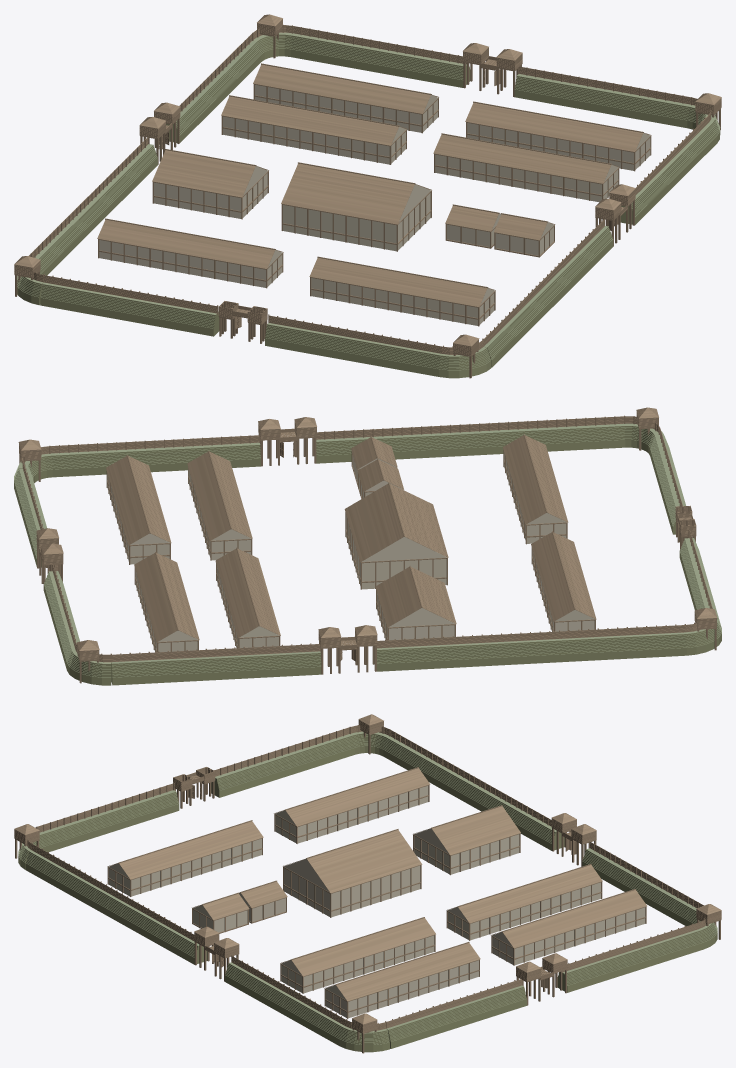
Rendered from roman-fort-b.near.glb.
The picture shows the model from 3 angles, top to bottom: view 1: azimuth 30°, elevation 25°; view 2: azimuth 150°, elevation 25°; view 3: azimuth 270°, elevation 25°; orthographic projection. The views are drawn at different scales.
Visible parts, largest first — view 1: fort2/principia-1, fort2/barrack-5, fort2/barrack-6, fort2/barrack-1, fort2/barrack-2, fort2/barrack-4, fort2/barrack-3, fort2/praetorium-1, fort2/rampart-sw-5, fort2/rampart-ne-1, fort2/rampart-sw-4, fort2/rampart-ne-0 (+23 smaller); view 2: fort2/rampart-nw-3, fort2/principia-1, fort2/rampart-se-6, fort2/rampart-nw-2, fort2/praetorium-1, fort2/barrack-2, fort2/barrack-6, fort2/barrack-4, fort2/rampart-se-7, fort2/barrack-3, fort2/barrack-5, fort2/barrack-1 (+20 smaller); view 3: fort2/principia-1, fort2/barrack-1, fort2/barrack-4, fort2/barrack-6, fort2/barrack-5, fort2/barrack-2, fort2/barrack-3, fort2/praetorium-1, fort2/rampart-nw-3, fort2/rampart-se-6, fort2/rampart-se-7, fort2/rampart-ne-1 (+20 smaller).
Boxes of the visible parts, <box> form: fort2/principia-1: <box>281,162,431,251</box>; fort2/barrack-5: <box>97,218,283,288</box>; fort2/barrack-6: <box>309,256,495,326</box>; fort2/barrack-1: <box>221,95,406,164</box>; fort2/barrack-2: <box>433,133,619,202</box>; fort2/barrack-4: <box>465,101,651,171</box>; fort2/barrack-3: <box>253,63,438,133</box>; fort2/praetorium-1: <box>152,149,268,219</box>; fort2/rampart-sw-5: <box>265,323,491,378</box>; fort2/rampart-ne-1: <box>253,32,470,87</box>; fort2/rampart-sw-4: <box>40,282,219,336</box>; fort2/rampart-ne-0: <box>514,74,690,127</box>; fort2/rampart-nw-3: <box>377,618,721,671</box>; fort2/principia-1: <box>344,482,448,589</box>; fort2/rampart-se-6: <box>316,423,625,463</box>; fort2/rampart-nw-2: <box>111,651,321,685</box>; fort2/praetorium-1: <box>375,565,456,640</box>; fort2/barrack-2: <box>187,450,252,560</box>; fort2/barrack-6: <box>503,434,568,544</box>; fort2/barrack-4: <box>106,455,171,564</box>; fort2/rampart-se-7: <box>14,442,260,482</box>; fort2/barrack-3: <box>134,552,199,652</box>; fort2/barrack-5: <box>531,531,596,631</box>; fort2/barrack-1: <box>215,547,280,648</box>; fort2/principia-1: <box>283,829,422,917</box>; fort2/barrack-1: <box>446,864,602,940</box>; fort2/barrack-4: <box>324,942,480,1018</box>; fort2/barrack-6: <box>107,820,263,896</box>; fort2/barrack-5: <box>274,767,430,843</box>; fort2/barrack-2: <box>280,917,435,993</box>; fort2/barrack-3: <box>491,889,646,965</box>; fort2/praetorium-1: <box>413,805,520,875</box>; fort2/rampart-nw-3: <box>351,731,564,850</box>; fort2/rampart-se-6: <box>25,850,207,964</box>; fort2/rampart-se-7: <box>225,962,389,1052</box>; fort2/rampart-ne-1: <box>557,920,717,992</box>.
Bounding box in the file's own units: 169 × 11.84 × 163.
